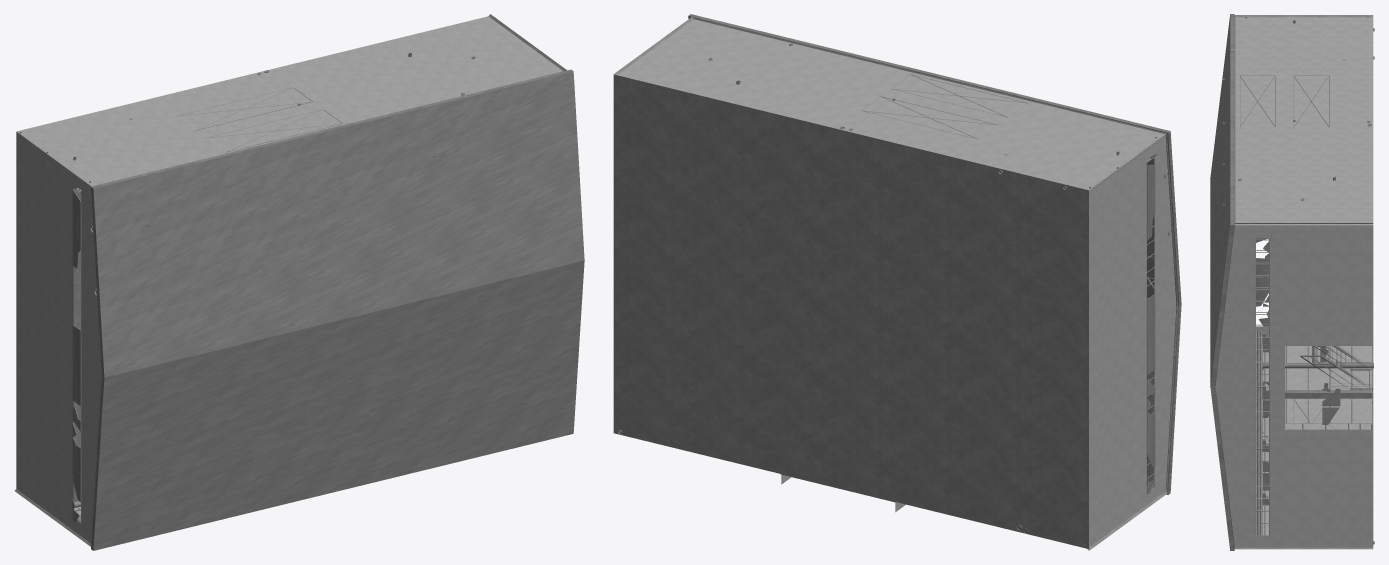
File: Factory_03.obj
3 renders of one model, left to right at view 1: azimuth 30°, elevation 25°; view 2: azimuth 150°, elevation 25°; view 3: azimuth 270°, elevation 25°, orthographic. The views are drawn at different scales.
Visible parts, largest first — view 1: FC_Fence_01_5, FC_Fence_01, FC_Fence_01_6, FC_Fence_01_7; view 2: FC_Fence_01_4, FC_Fence_01, FC_Fence_01_6, FC_Fence_01_5, FC_Fence_01_7; view 3: FC_Fence_01, FC_Fence_01_6, FC_Fence_01_5, FC_Fence_01_7.
Boxes of the visible parts, bbox=[...] form: FC_Fence_01_5: bbox=[91, 69, 584, 550]; FC_Fence_01: bbox=[16, 16, 562, 543]; FC_Fence_01_6: bbox=[14, 14, 566, 546]; FC_Fence_01_7: bbox=[72, 190, 81, 522]; FC_Fence_01_4: bbox=[613, 74, 1088, 548]; FC_Fence_01: bbox=[614, 19, 1176, 548]; FC_Fence_01_6: bbox=[614, 16, 1178, 550]; FC_Fence_01_5: bbox=[688, 14, 1181, 494]; FC_Fence_01_7: bbox=[729, 153, 1155, 494]; FC_Fence_01: bbox=[1215, 17, 1373, 547]; FC_Fence_01_6: bbox=[1215, 15, 1374, 549]; FC_Fence_01_5: bbox=[1210, 14, 1234, 550]; FC_Fence_01_7: bbox=[1256, 238, 1373, 490].
Size of the model in its own units: 25.19 by 18.65 by 8.28.
Materials: 6 (5 with a texture image).
